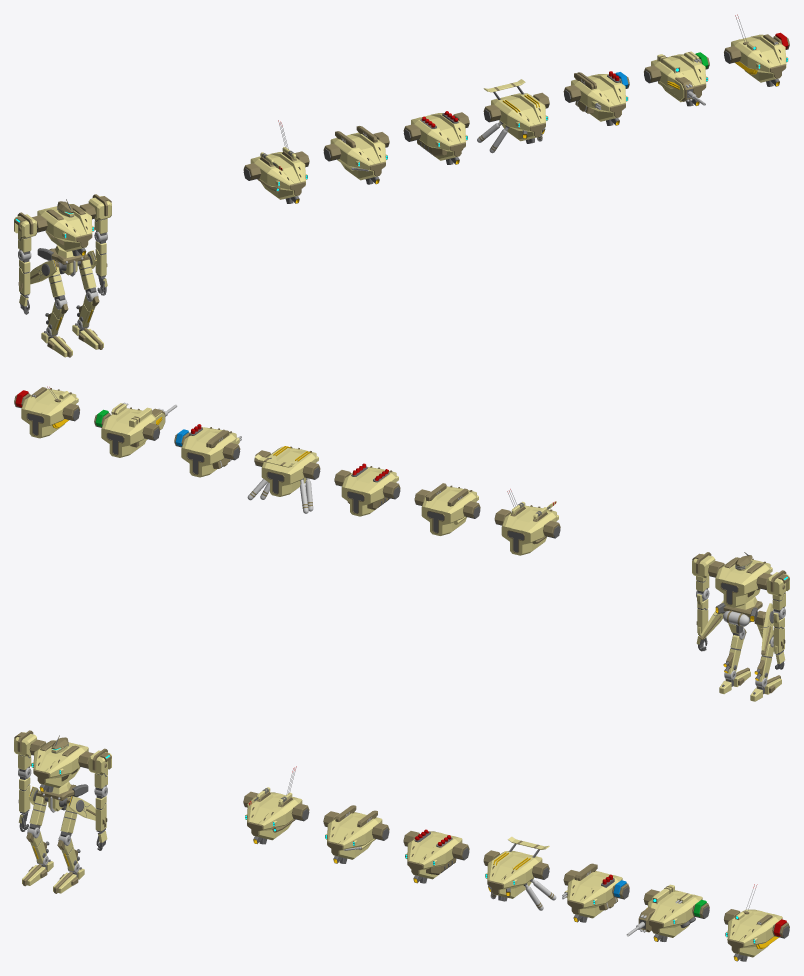
The model's file is mech 'Valiant'.fbx.
3 renders of one model, top to bottom at view 1: azimuth 30°, elevation 25°; view 2: azimuth 150°, elevation 25°; view 3: azimuth 330°, elevation 25°, orthographic.
Parts seen in each view (by area): view 1: pCube94, pCube102, pCube65, pCube86, pCube116, pCube123, pCube106, pCube122; view 2: pCube94, pCube102, pCube86, pCube122, pCube106, pCube65, pCube116, pCube123; view 3: pCube94, pCube102, pCube65, pCube86, pCube116, pCube106, pCube123, pCube122.
Part boxes in pixels (left/top/right/bottom): pCube94: left=491, top=93, right=545, bottom=141; pCube102: left=731, top=34, right=786, bottom=82; pCube65: left=330, top=132, right=385, bottom=180; pCube86: left=250, top=152, right=305, bottom=199; pCube116: left=571, top=74, right=625, bottom=121; pCube123: left=37, top=204, right=92, bottom=251; pCube106: left=411, top=113, right=465, bottom=160; pCube122: left=651, top=54, right=706, bottom=102; pCube94: left=261, top=446, right=316, bottom=496; pCube102: left=21, top=388, right=76, bottom=438; pCube86: left=501, top=505, right=556, bottom=555; pCube122: left=101, top=408, right=155, bottom=457; pCube106: left=341, top=467, right=396, bottom=516; pCube65: left=421, top=486, right=476, bottom=535; pCube116: left=181, top=427, right=236, bottom=477; pCube123: left=715, top=557, right=770, bottom=607; pCube94: left=487, top=851, right=542, bottom=898; pCube102: left=727, top=909, right=782, bottom=957; pCube65: left=327, top=812, right=382, bottom=859; pCube86: left=247, top=792, right=302, bottom=840; pCube116: left=567, top=871, right=622, bottom=918; pCube106: left=407, top=831, right=462, bottom=879; pCube123: left=33, top=740, right=88, bottom=787; pCube122: left=648, top=890, right=702, bottom=937.
Bounding box in the file's own units: 144 × 27.89 × 17.
